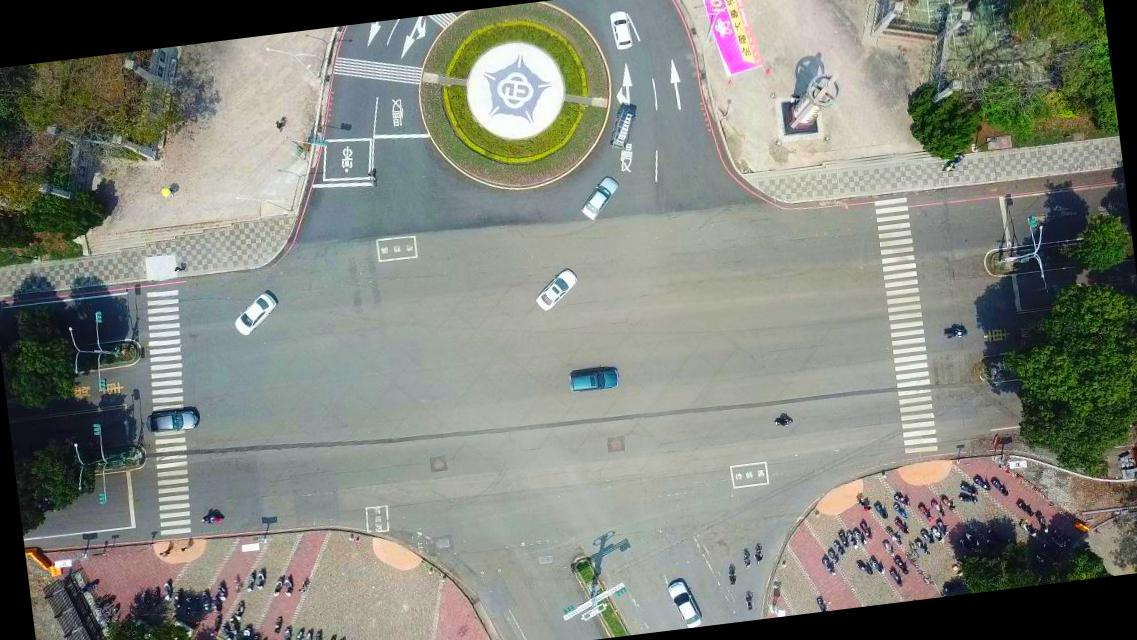vehicle: (229, 292, 280, 338), (575, 175, 624, 222), (529, 268, 580, 313), (603, 99, 642, 151), (666, 576, 703, 630), (566, 364, 620, 394), (144, 408, 199, 434), (607, 10, 633, 50)
